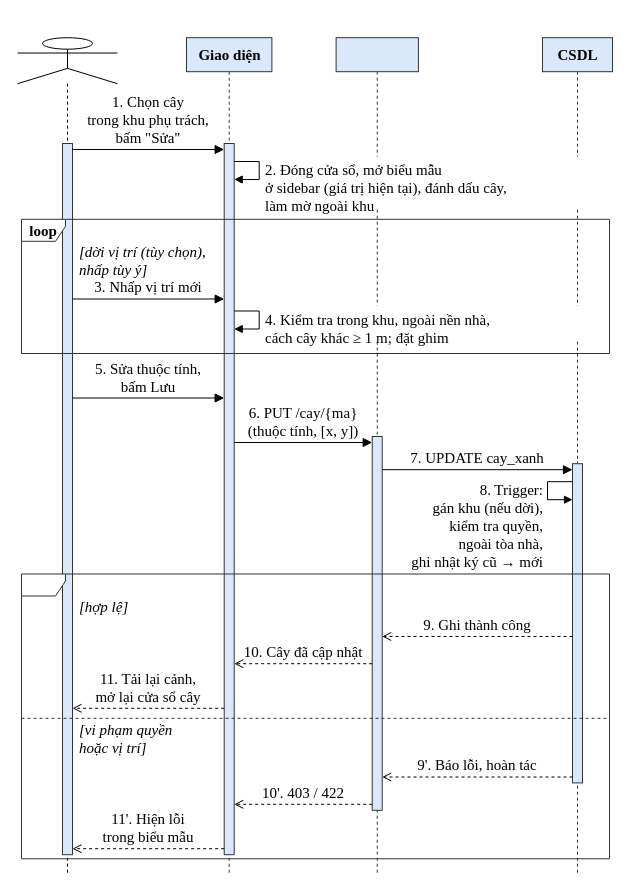
Image size: 630x891. Some labels were removed from this diagram. Here are the shapes that lost their labels. From the top down, the box of each, then its label:
(16, 37, 118, 873): Người QL khu
(335, 37, 418, 873): BackEnd
(20, 573, 610, 859): alt
